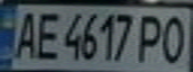1: (97, 10, 118, 62)
4: (60, 9, 84, 61)
6: (78, 9, 100, 62)
7: (112, 10, 139, 62)
A: (9, 8, 42, 61)
E: (30, 8, 63, 61)
O: (157, 11, 190, 65)
P: (136, 10, 169, 64)
